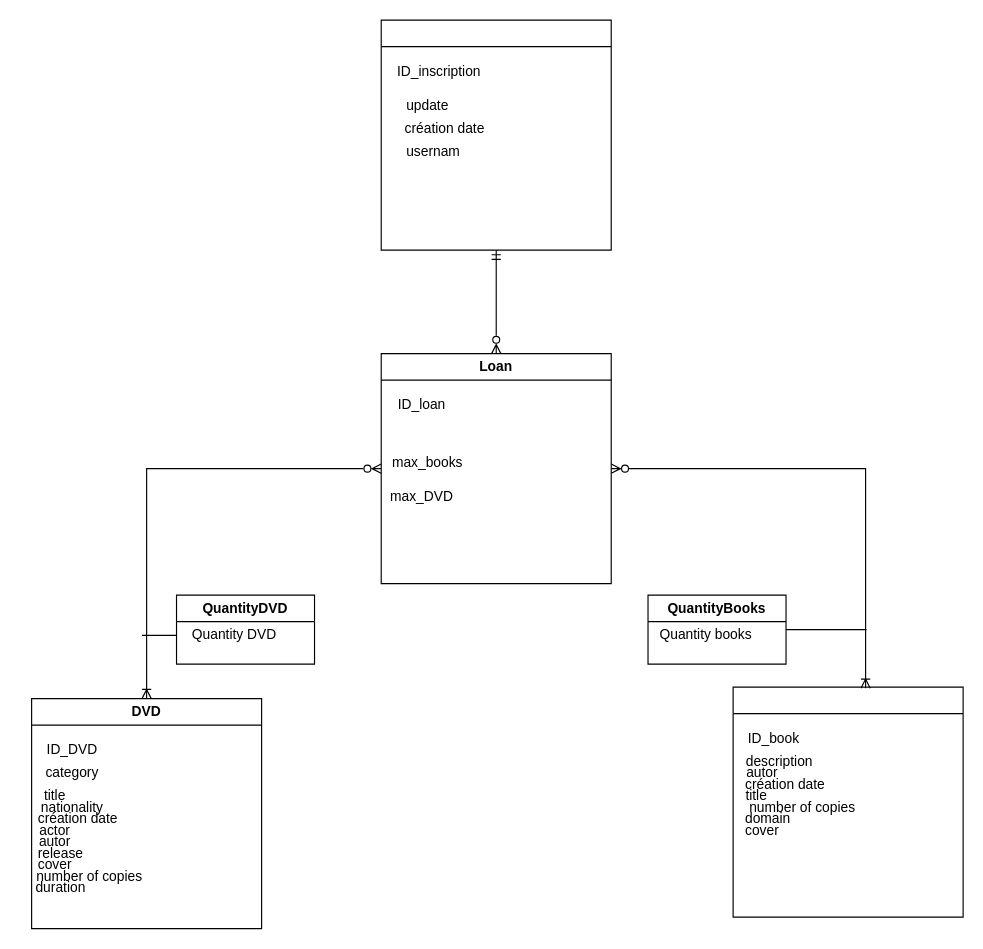
The diagram is 983 pixels wide and 949 high, and some of its shapes have lost their labels. Each missing label, with the box of its shape:
Books: (732, 686, 963, 917)
Inscriptions: (380, 19, 611, 250)
